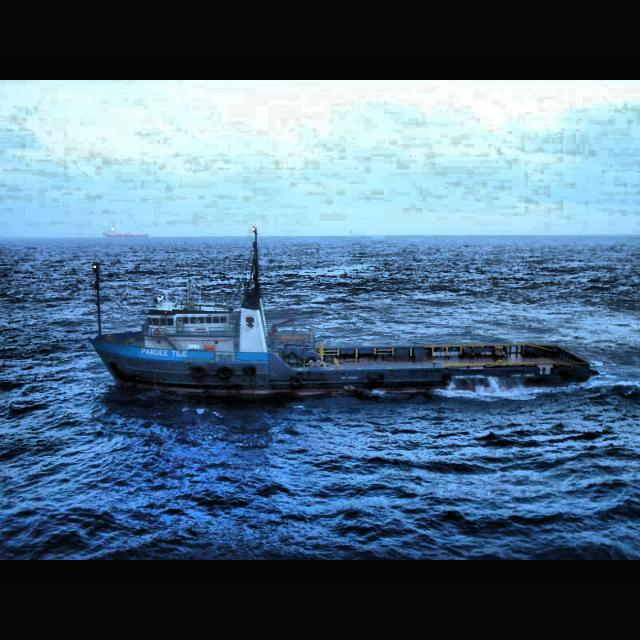anchor_handling_tug_supply: (92, 281, 596, 399)
